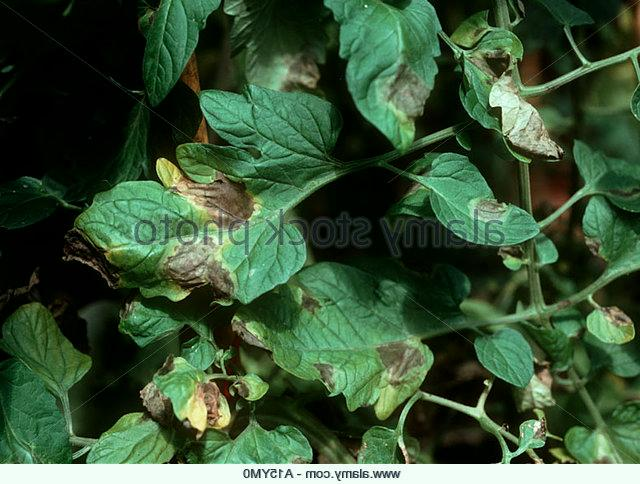Tomato leaf late blight: (81, 86, 348, 312), (228, 257, 474, 412), (446, 27, 577, 157), (416, 150, 544, 261), (144, 337, 268, 441)
